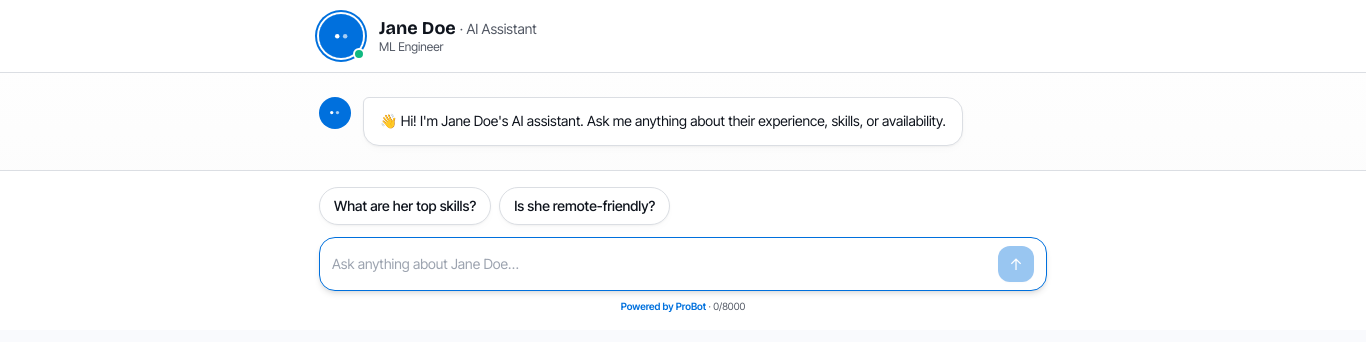
Test: ChatWindow › falls back to a network-error message when fetch rejects
In the text box: coordinates (661, 264) [332, 246, 990, 282], type "go"
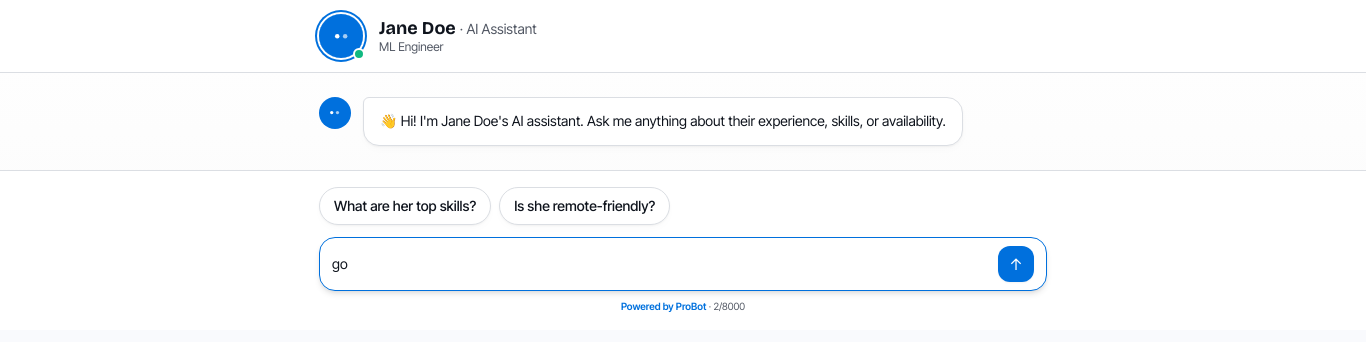
Click the button named "send message": coordinates (1016, 264) [998, 246, 1034, 282]
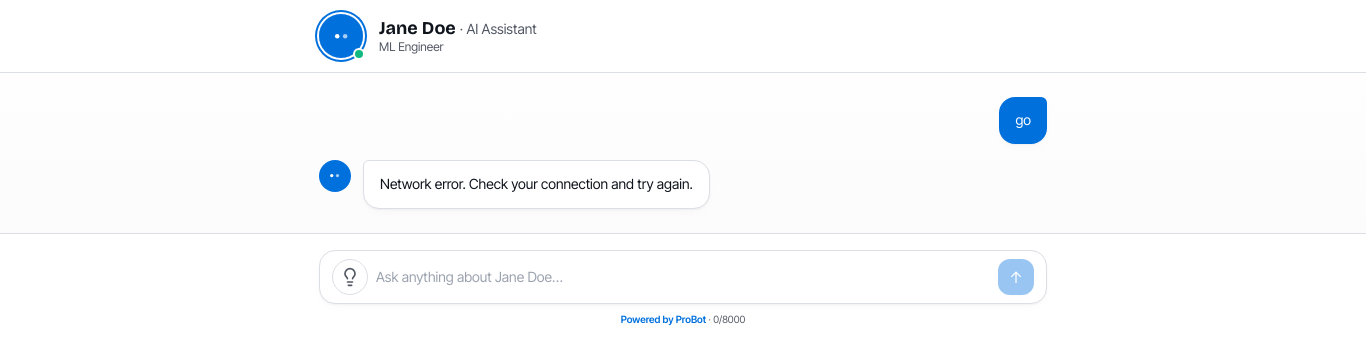
Expected: the text "Network error. Check your connection and try again." is shown, [380, 173, 693, 196]
